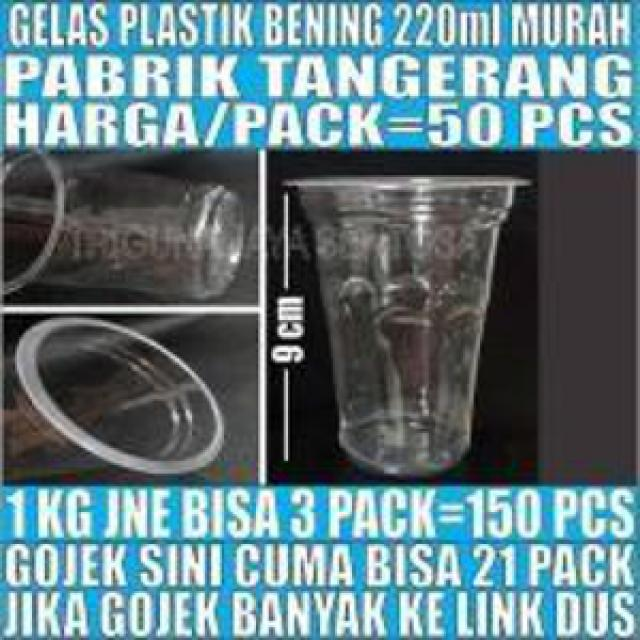plastic cup: (280, 167, 536, 482), (2, 316, 233, 486), (2, 154, 254, 309)
